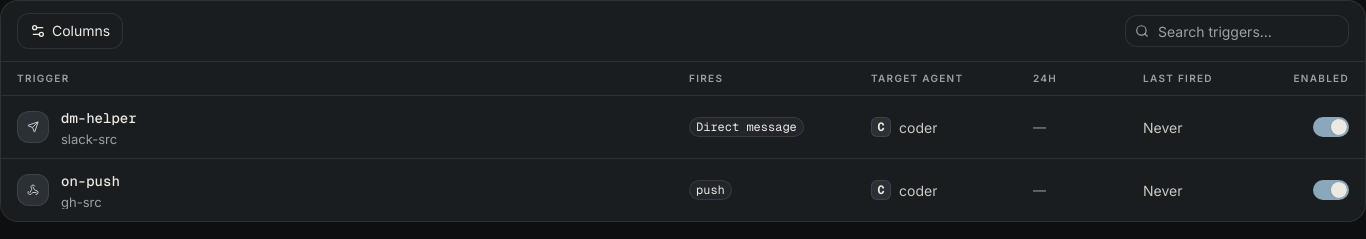
Test: chat command triggers › finds a chat command by the label it shows
In the field with placeholder "Search triggers…": (1237, 31) [1125,15,1349,47], type "direct message"
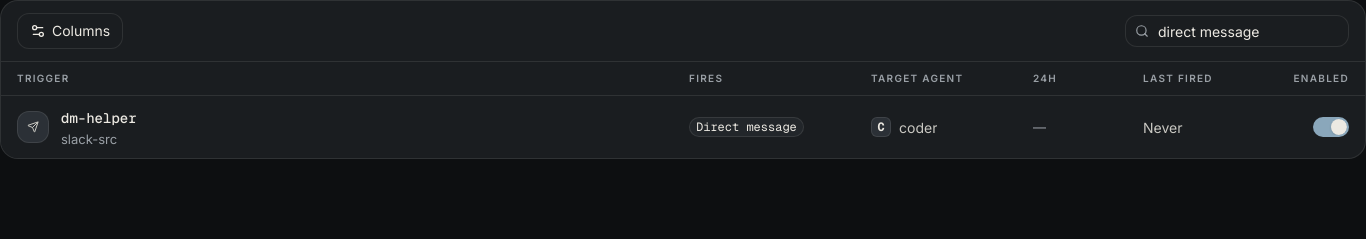
Expected: the text "dm-helper" is shown, [61,108,137,129]
Expected: the text "on-push" is gone
